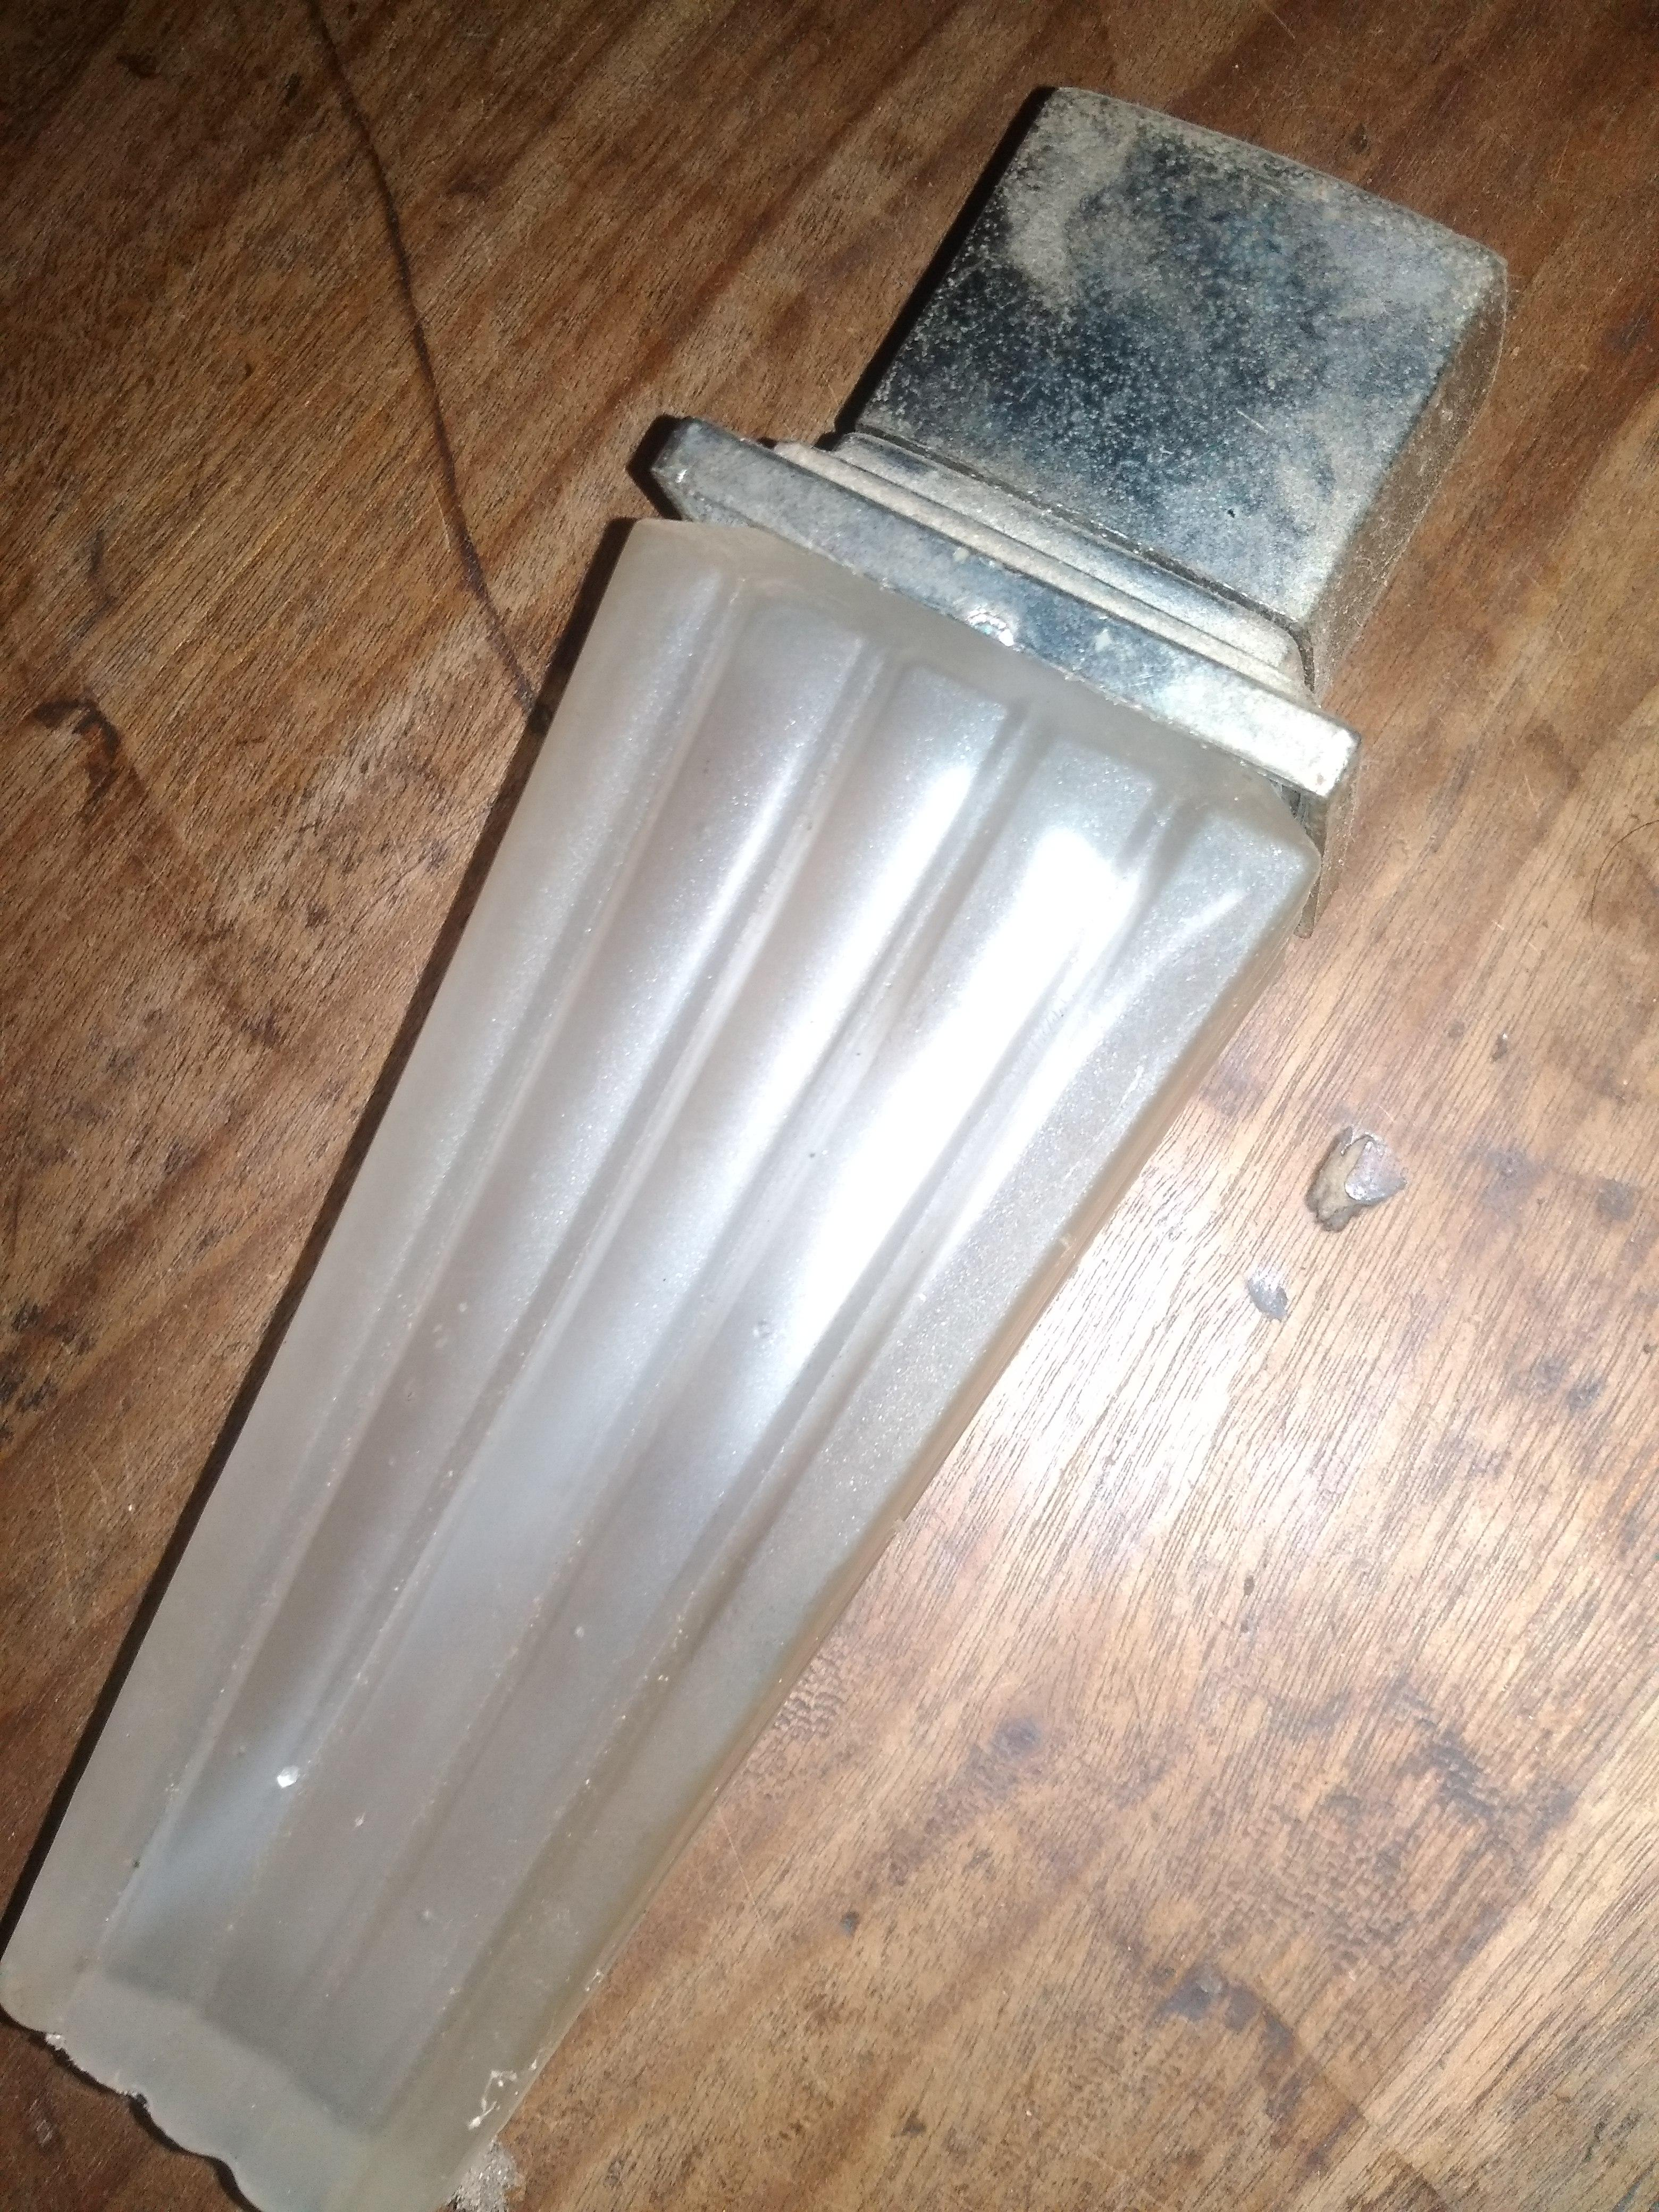organic: (0, 85, 1537, 2212)
